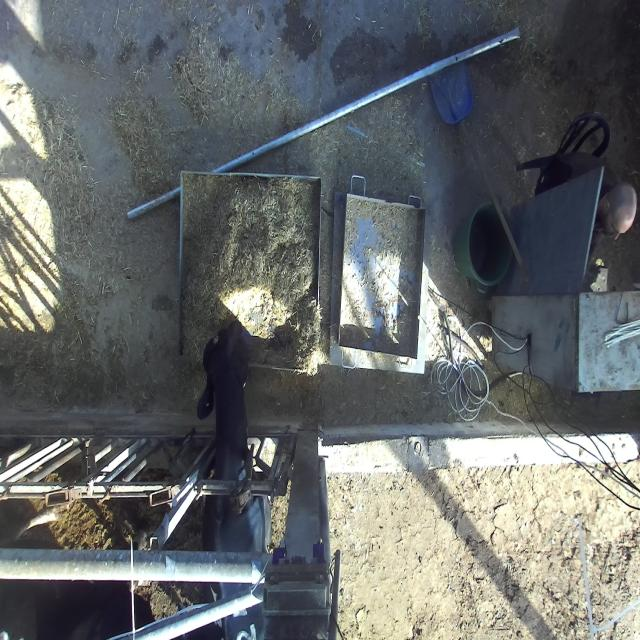cow: (194, 317, 253, 423)
